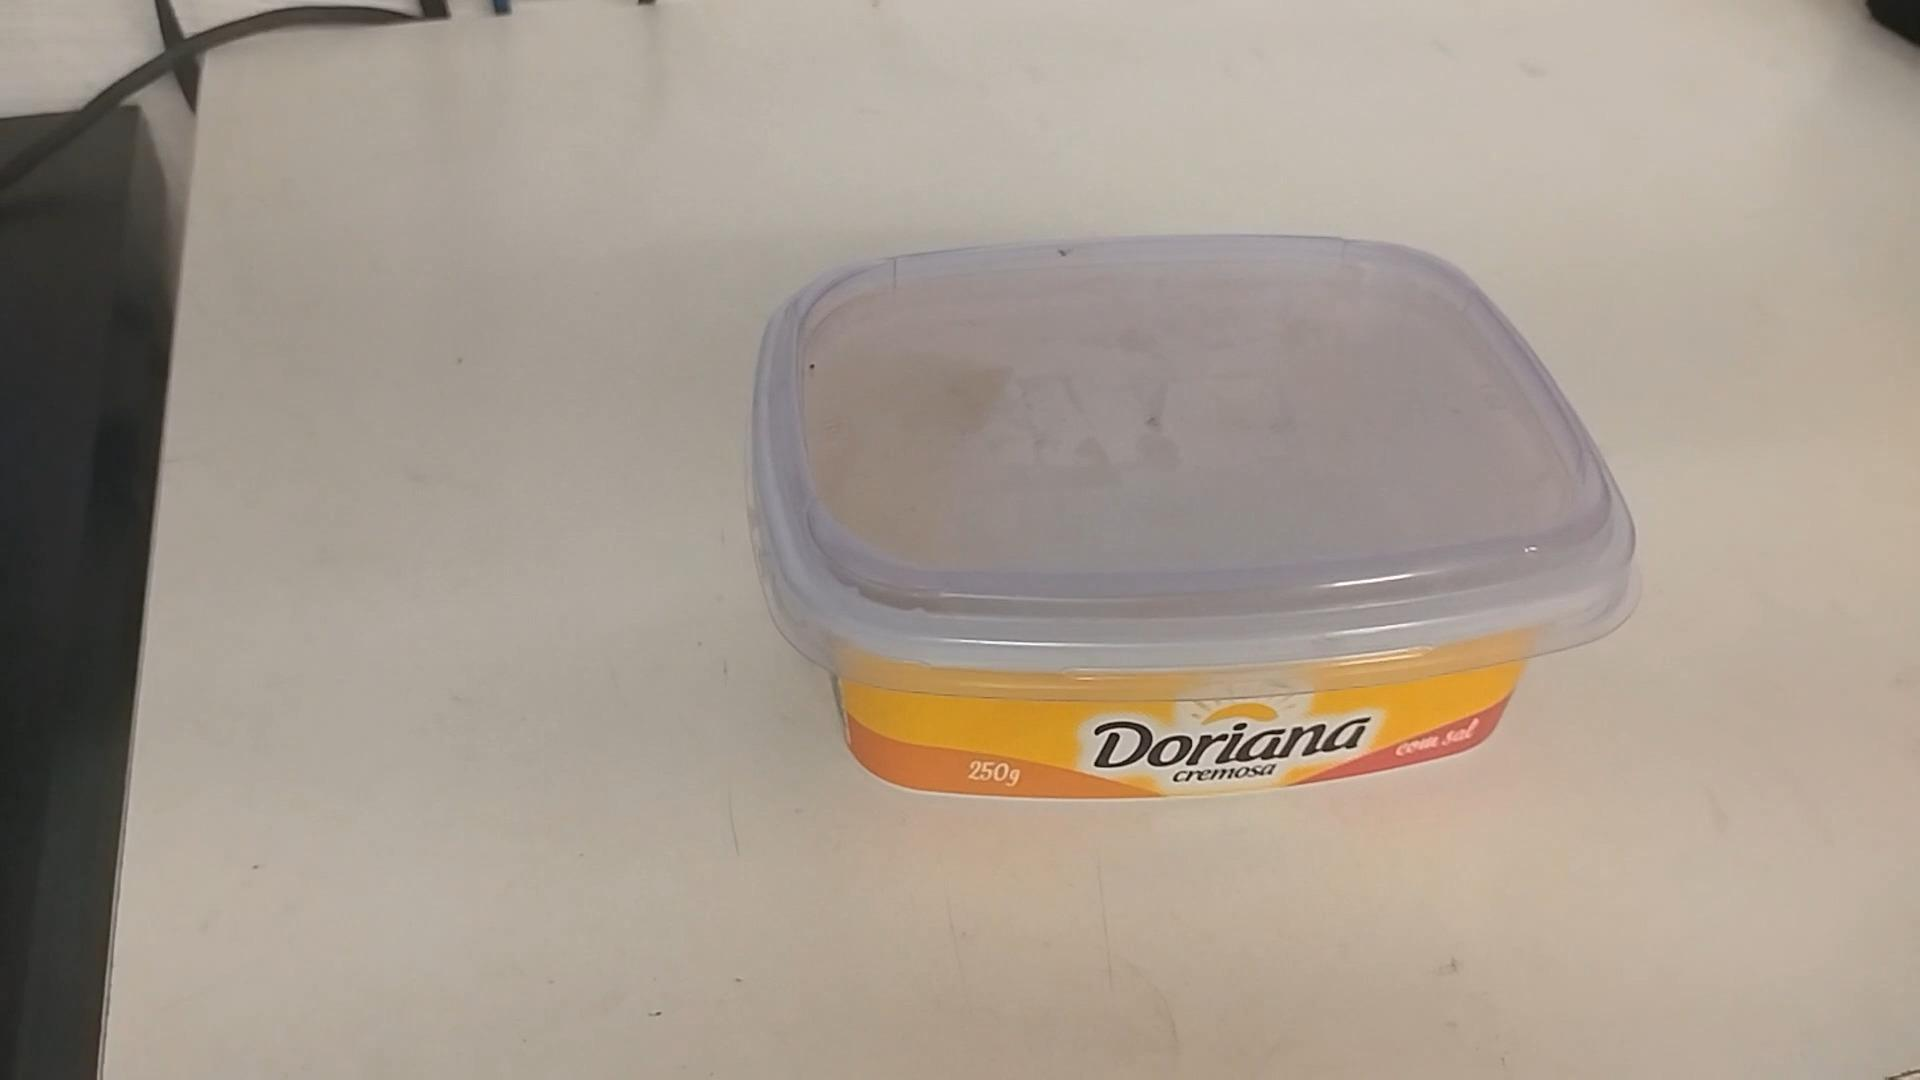butter: (749, 243, 1642, 804)
